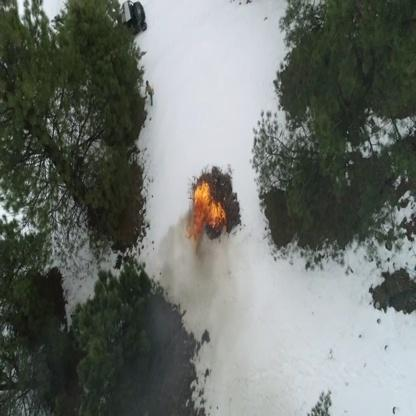Fire: (185, 178, 227, 252)
